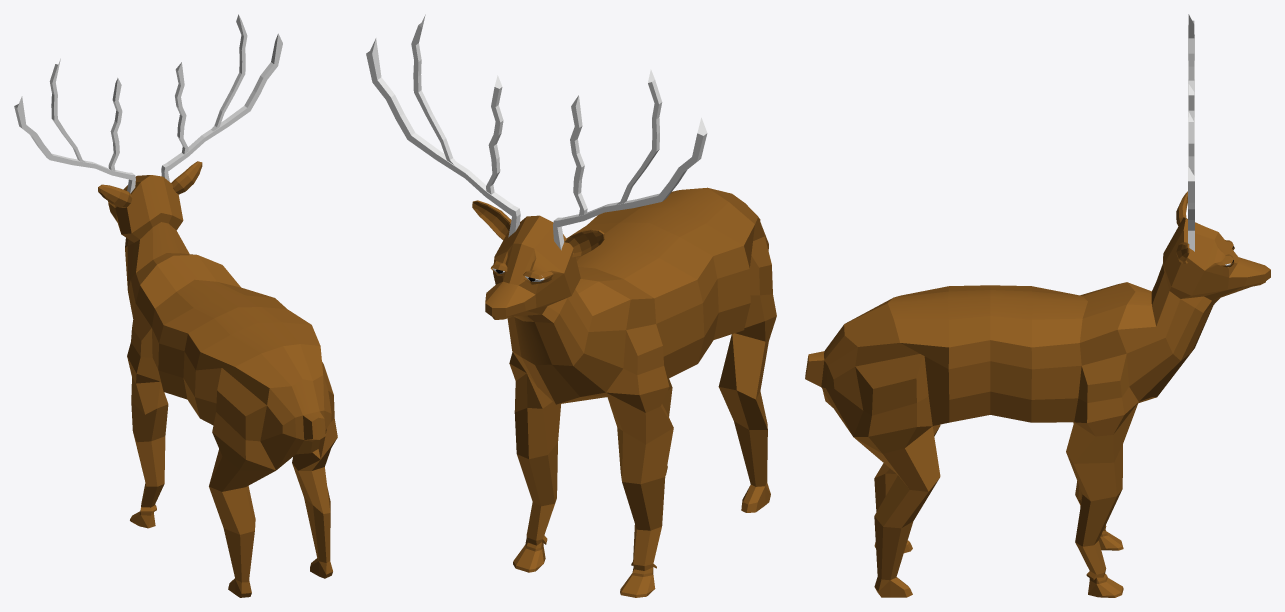
File: deer2.fbx
The picture shows the model from 3 angles, left to right: view 1: azimuth 30°, elevation 25°; view 2: azimuth 150°, elevation 25°; view 3: azimuth 270°, elevation 25°; orthographic projection. The views are drawn at different scales.
Visible parts, largest first — view 1: pCube18; view 2: pCube18; view 3: pCube18.
Boxes of the visible parts, x1,y1,x2,y2 form: pCube18: (14, 14, 337, 597); pCube18: (366, 14, 776, 597); pCube18: (805, 14, 1270, 597).
Bounding box in the file's own units: 16.79 × 27.25 × 22.58.
